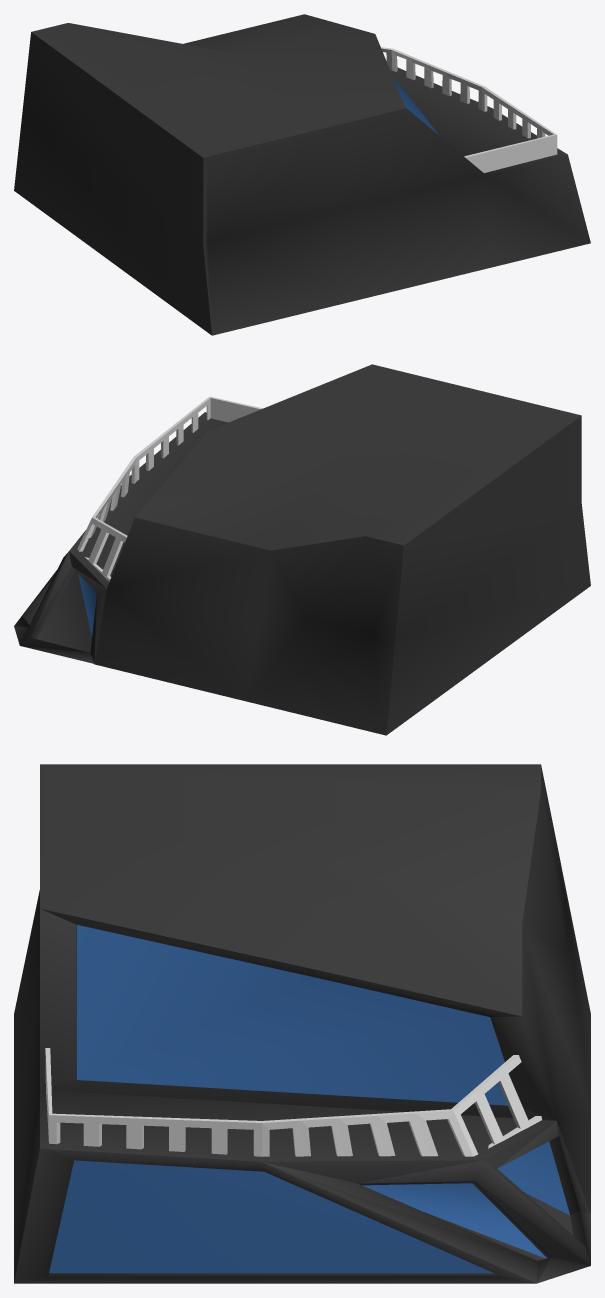
Rendered from 2story.fbx.
3 views of the same model, one above another, from view 1: azimuth 30°, elevation 25°; view 2: azimuth 150°, elevation 25°; view 3: azimuth 270°, elevation 25° (orthographic). The views are drawn at different scales.
Visible parts, largest first — view 1: Box001, Line001; view 2: Box001, Line001; view 3: Box001, Line001.
Part boxes in pixels (x1=…): Box001: x1=14, y1=14, x2=590, y2=335; Line001: x1=381, y1=47, x2=557, y2=172; Box001: x1=14, y1=364, x2=590, y2=735; Line001: x1=77, y1=396, x2=262, y2=581; Box001: x1=14, y1=764, x2=590, y2=1283; Line001: x1=45, y1=1048, x2=541, y2=1156.
Size of the model in its own units: 2313 by 1000 by 2094.
